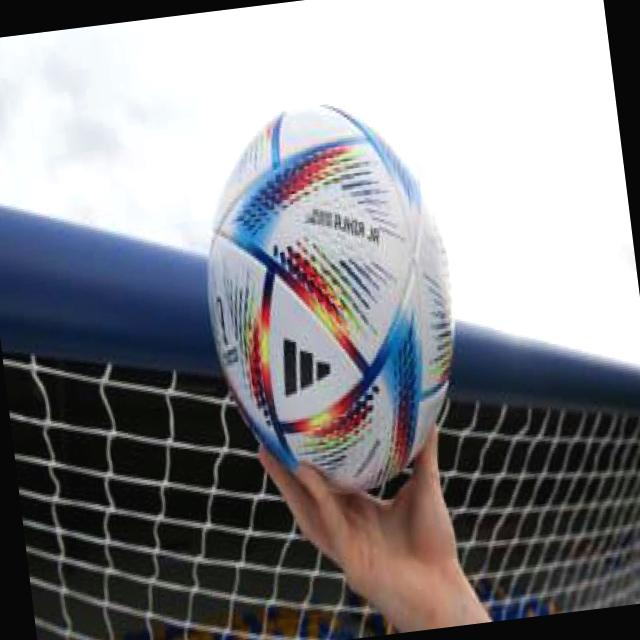ball: (173, 73, 482, 514)
